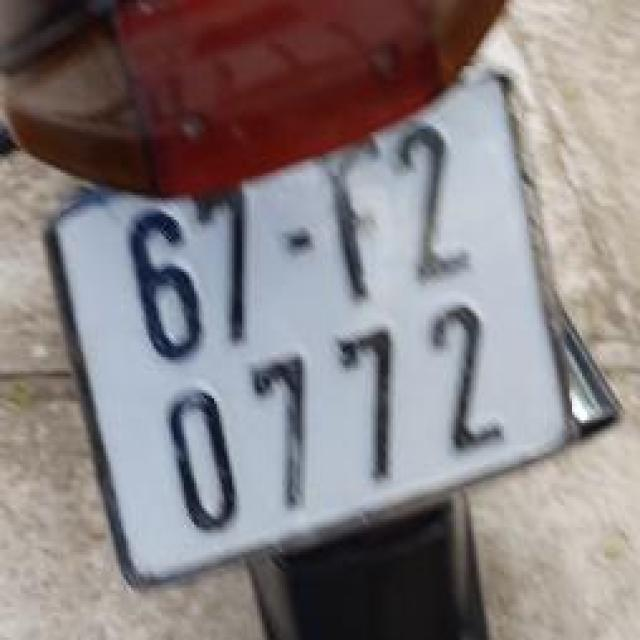0: (151, 393, 250, 533)
2: (390, 108, 487, 297), (424, 294, 516, 456)
6: (113, 196, 219, 374)
7: (182, 165, 277, 361), (246, 338, 321, 511), (336, 320, 409, 496)
F: (298, 125, 408, 317)
